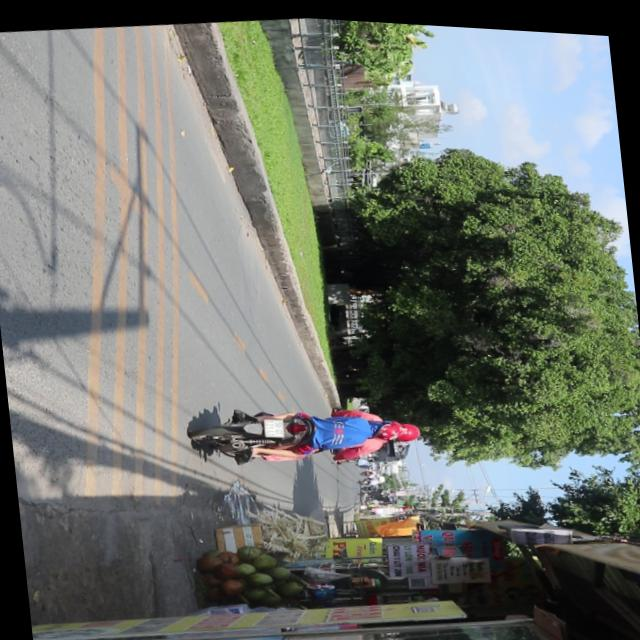helmet: (363, 412, 402, 437), (388, 413, 420, 438)
licenseplate: (188, 380, 425, 477)
nohelmet: (262, 414, 284, 435)
